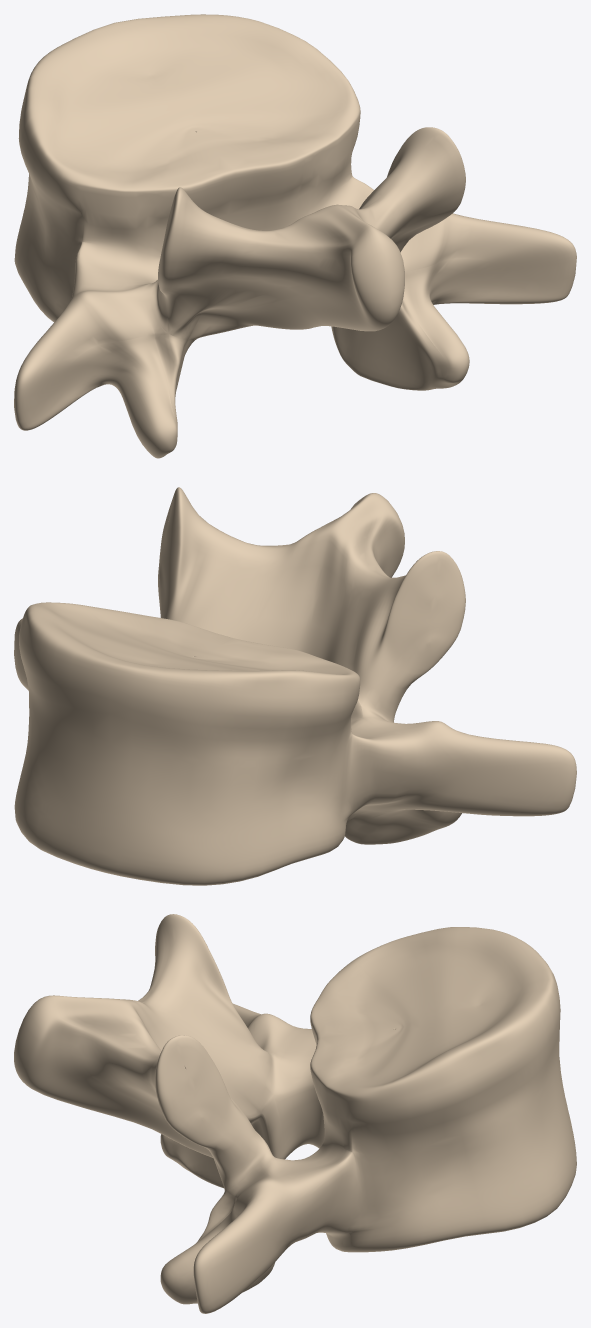
3 views of the same model, one above another, from view 1: azimuth 30°, elevation 25°; view 2: azimuth 150°, elevation 25°; view 3: azimuth 270°, elevation 25° (orthographic). The views are drawn at different scales.
Visible parts, largest first — view 1: L4; view 2: L4; view 3: L4.
Part boxes in pixels (x1,y1,x2,y2): L4: [14, 14, 576, 458]; L4: [14, 487, 576, 885]; L4: [14, 914, 576, 1313].
Size of the model in its own units: 98.51 by 46.28 by 87.93.
